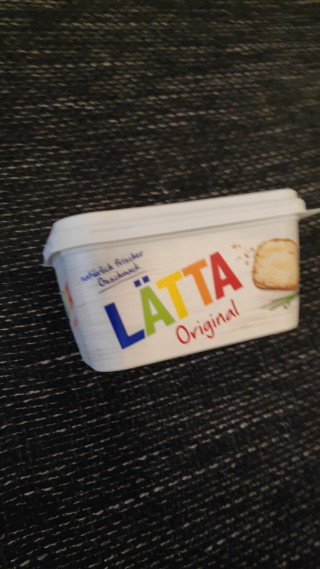laetta: (41, 188, 320, 373)
